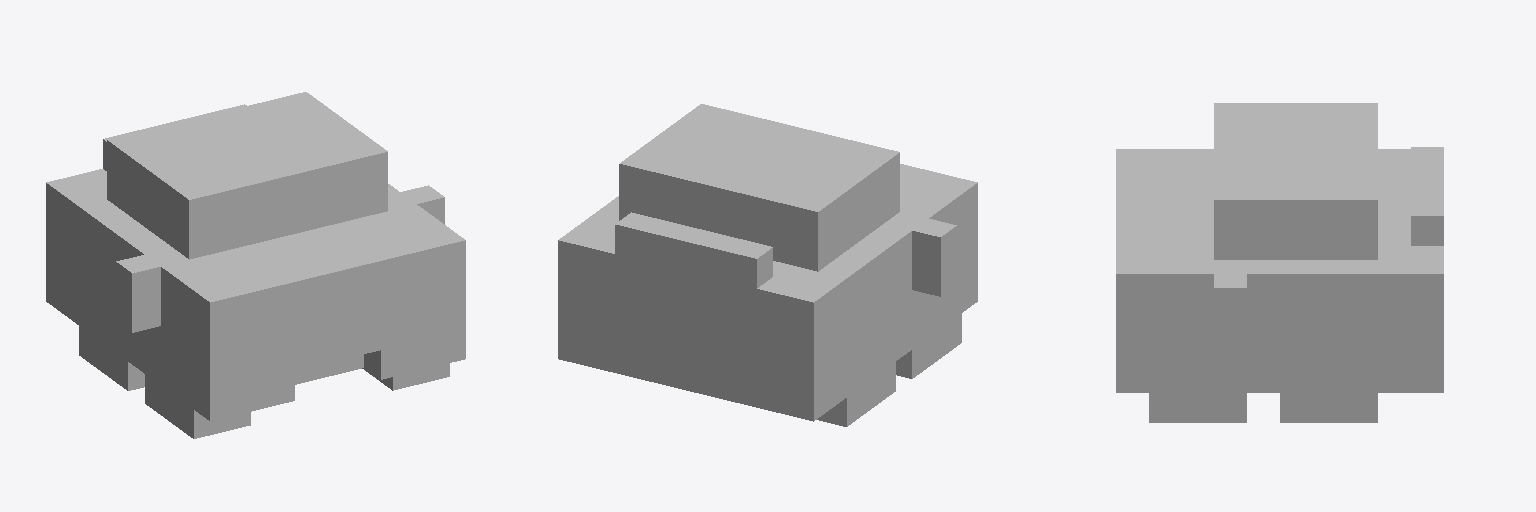
The model's file is blue_car.obj.
3 views of the same model, side by side, from view 1: azimuth 30°, elevation 25°; view 2: azimuth 150°, elevation 25°; view 3: azimuth 270°, elevation 25° (orthographic).
Visible parts, largest first — view 1: object 1; view 2: object 1; view 3: object 1.
Boxes of the visible parts, x1=… form: object 1: x1=46, y1=92, x2=465, y2=438; object 1: x1=558, y1=104, x2=977, y2=426; object 1: x1=1116, y1=103, x2=1443, y2=422.
Size of the model in its own units: 1.1 by 0.7 by 1.